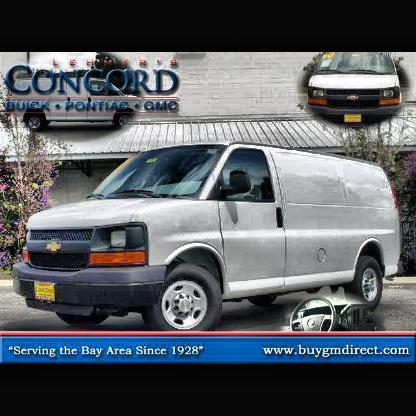Chevrolet Express Cargo Van 2007: (10, 142, 404, 331)
